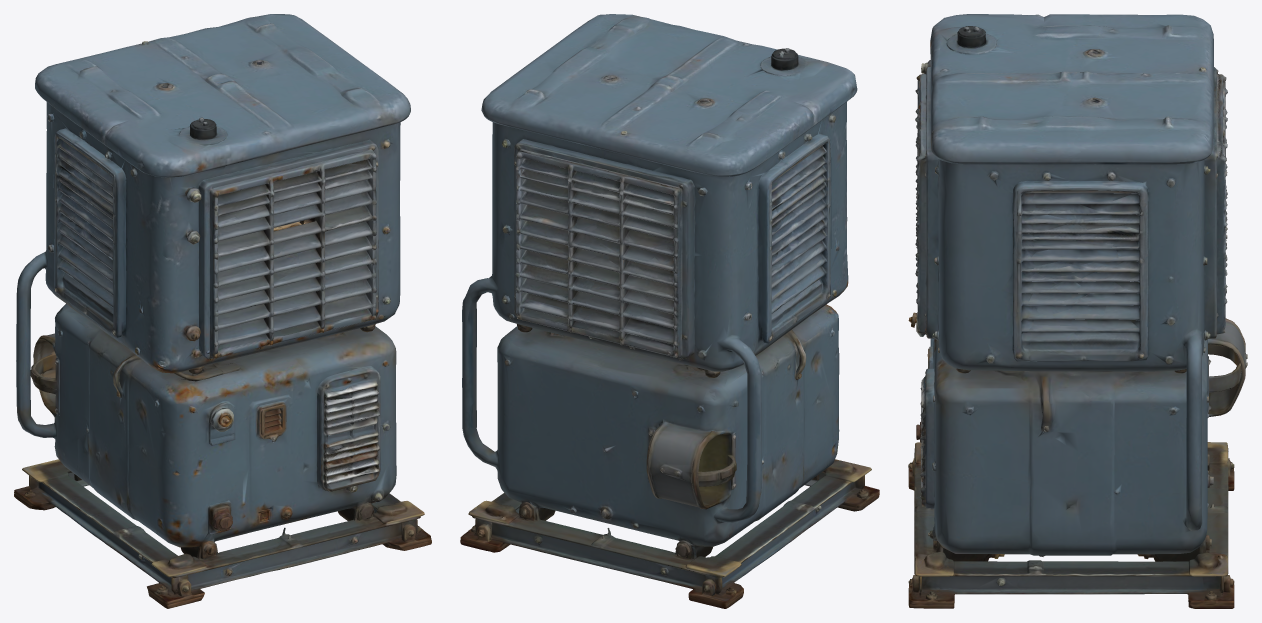
Rendered from generator.glb.
3 renders of one model, left to right at view 1: azimuth 30°, elevation 25°; view 2: azimuth 150°, elevation 25°; view 3: azimuth 270°, elevation 25°, orthographic. The views are drawn at different scales.
Bounding box in the file's own units: 0.6742 × 0.9796 × 0.6295.
1 material, 1 textured.
